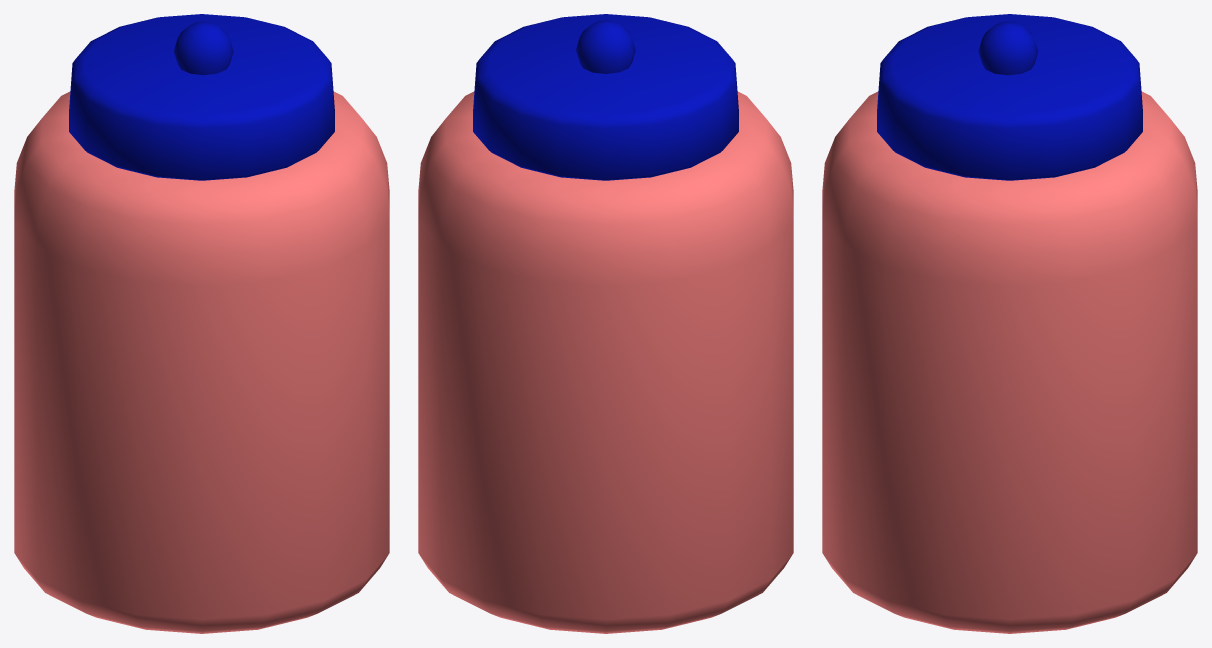
Rendered from CandyJaar.fbx.
3 views of the same model, side by side, from view 1: azimuth 30°, elevation 25°; view 2: azimuth 150°, elevation 25°; view 3: azimuth 270°, elevation 25° (orthographic).
Visible parts, largest first — view 1: CandyJaar; view 2: CandyJaar; view 3: CandyJaar.
Part boxes in pixels (<box>): CandyJaar: <box>14,14,389,633</box>; CandyJaar: <box>418,14,793,633</box>; CandyJaar: <box>822,14,1197,633</box>.
Bounding box in the file's own units: 2.31 × 3.62 × 2.27.
